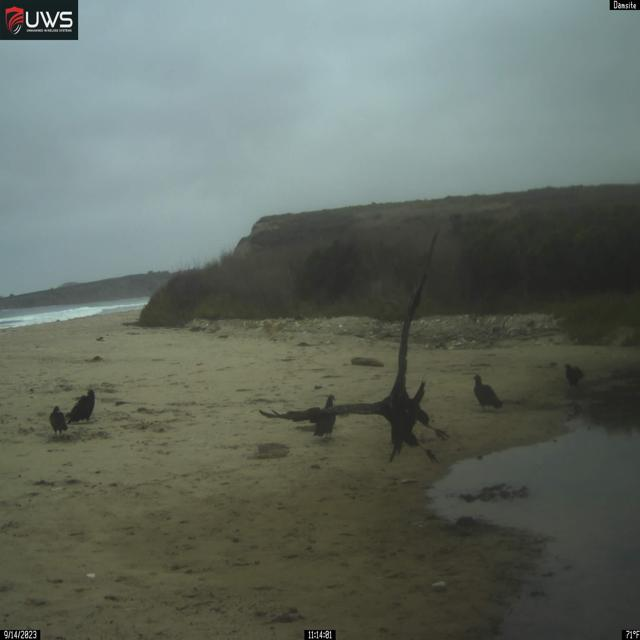bird: (49, 405, 68, 438)
